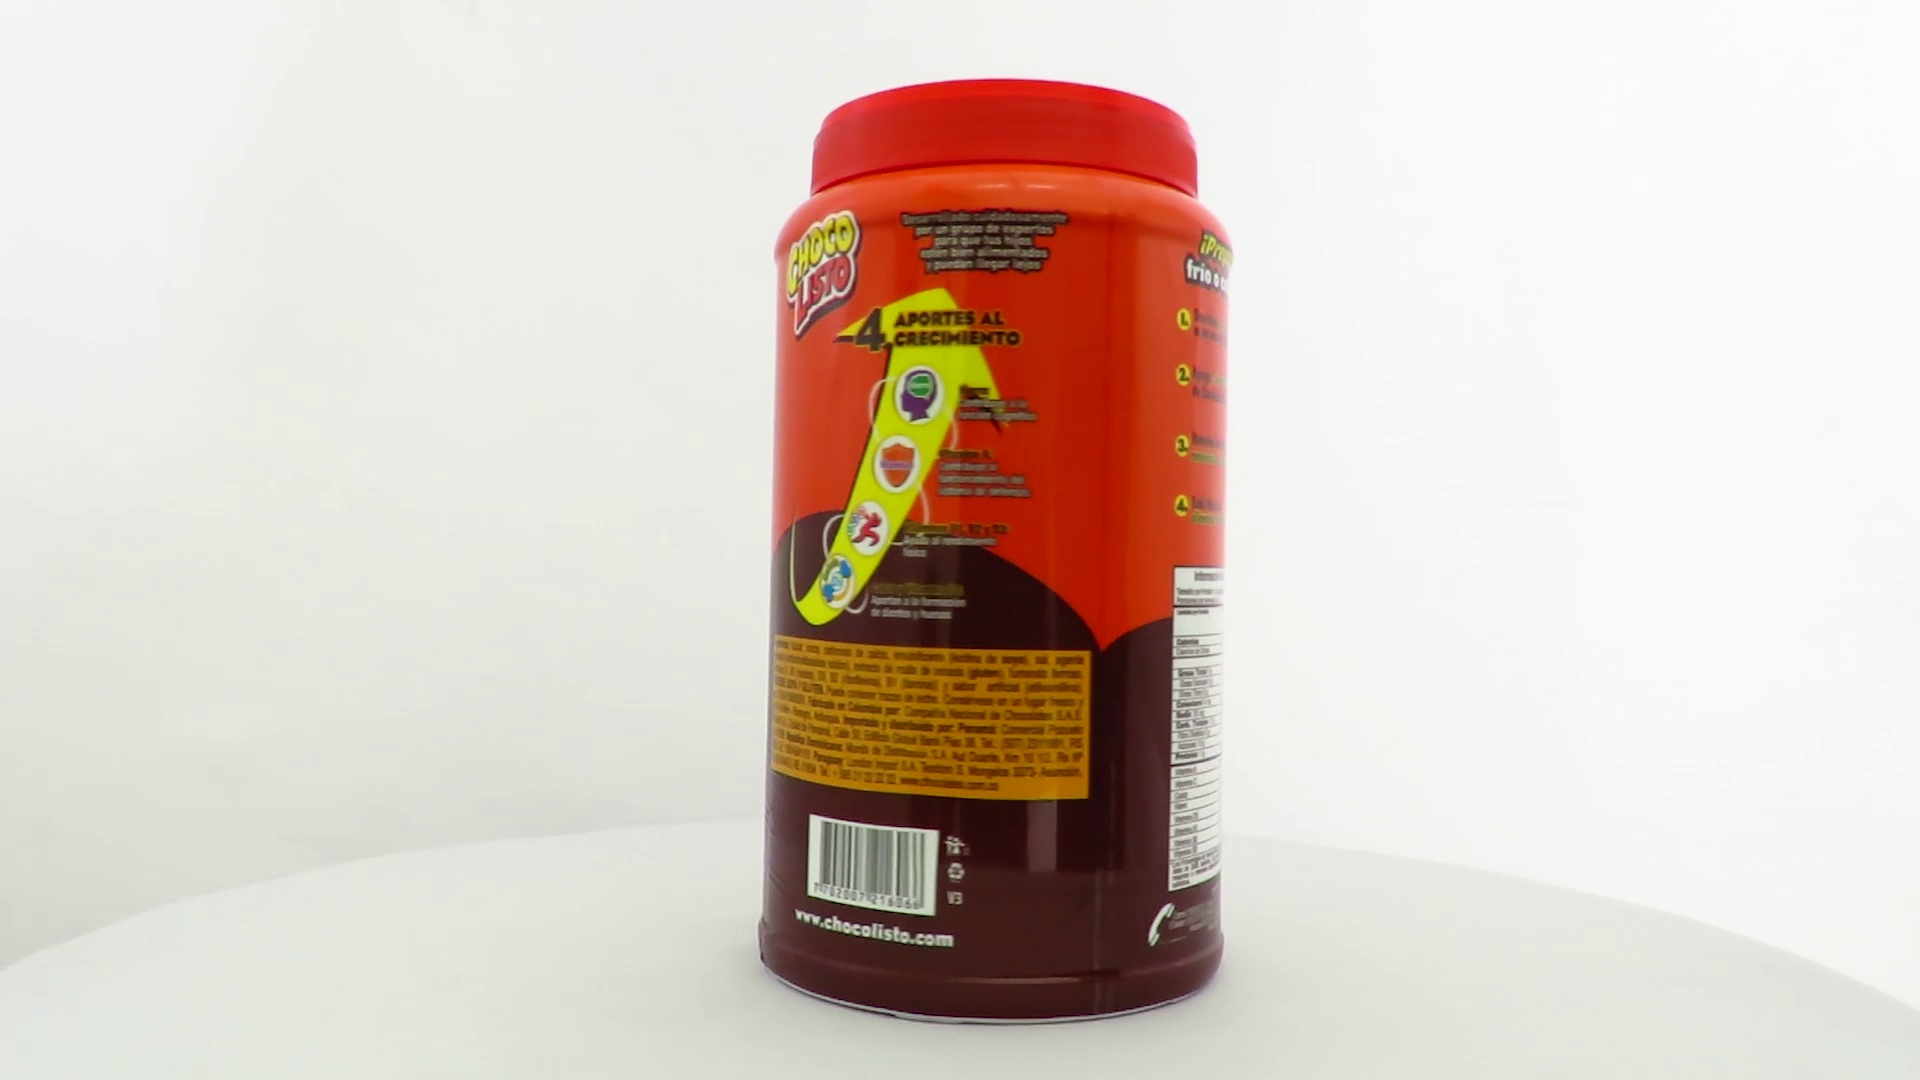COL0170103TRR00100: (752, 73, 1258, 1033)
